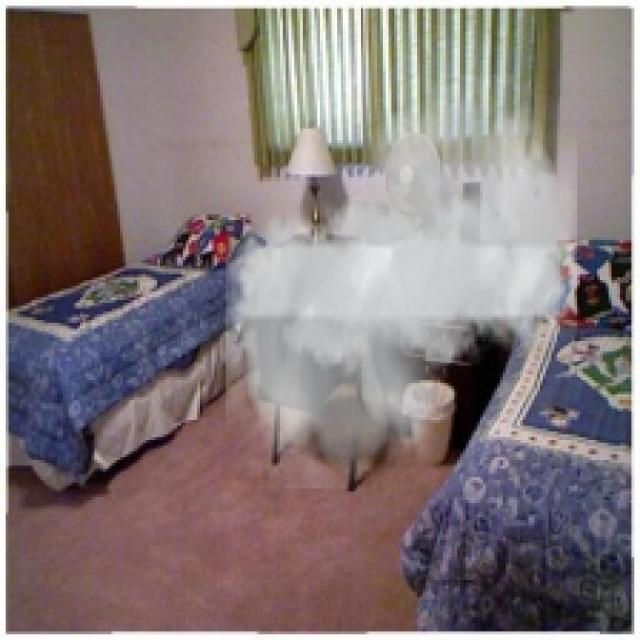Smoke: (225, 74, 578, 489)
